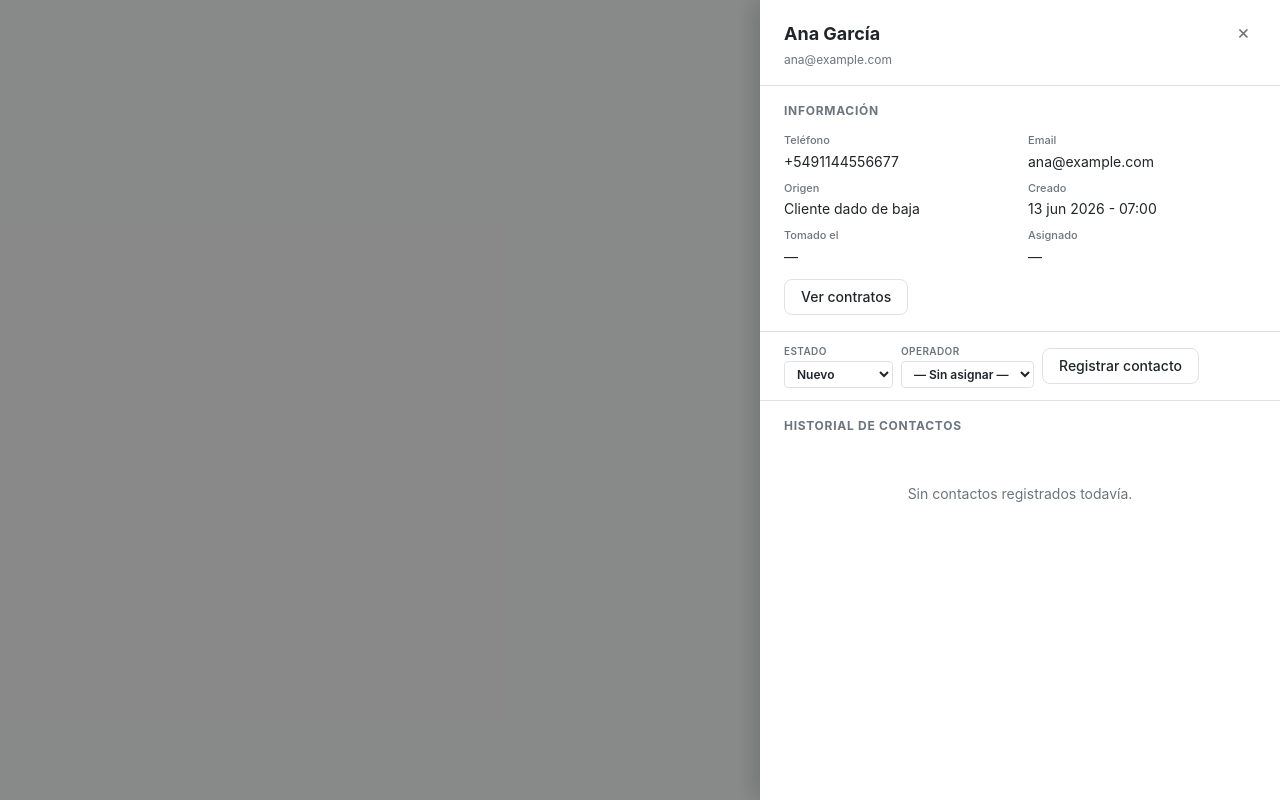
Test case: LeadDetailDrawer — contractsClientId resets when the lead prop changes › H1 — modal closes/state resets when a different lead is rendered while it was open
This screenshot has width=1280, height=800.
Click the button "Ver contratos": (846,296) top-left (784, 278), bottom-right (908, 314)
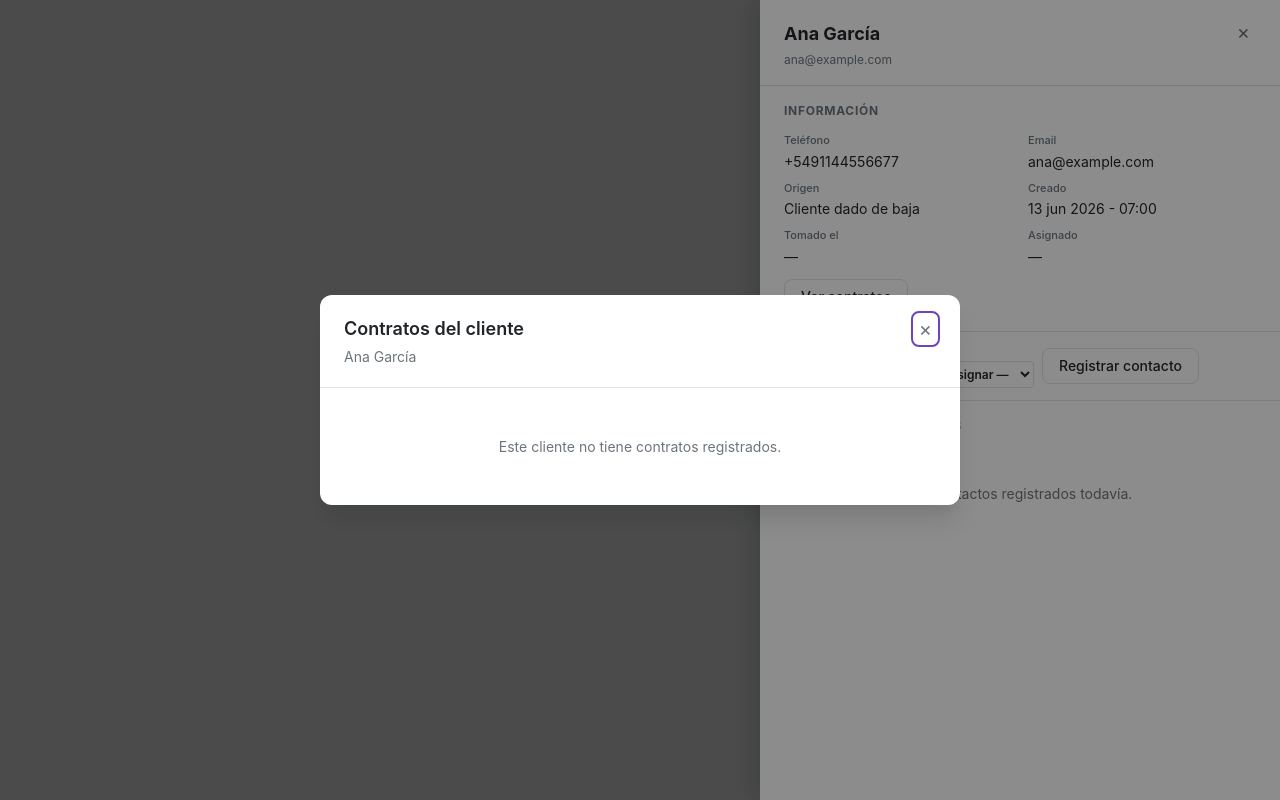
Expected: the dialog "Contratos del cliente" is shown, top-left (320, 295), bottom-right (960, 505)
